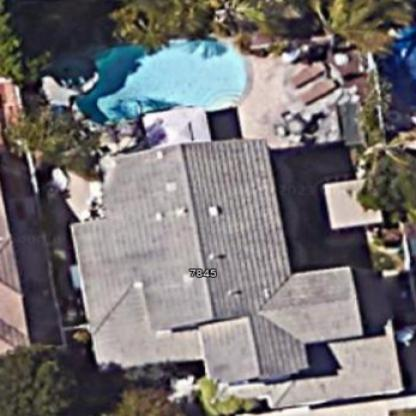pool: (56, 25, 256, 130)
